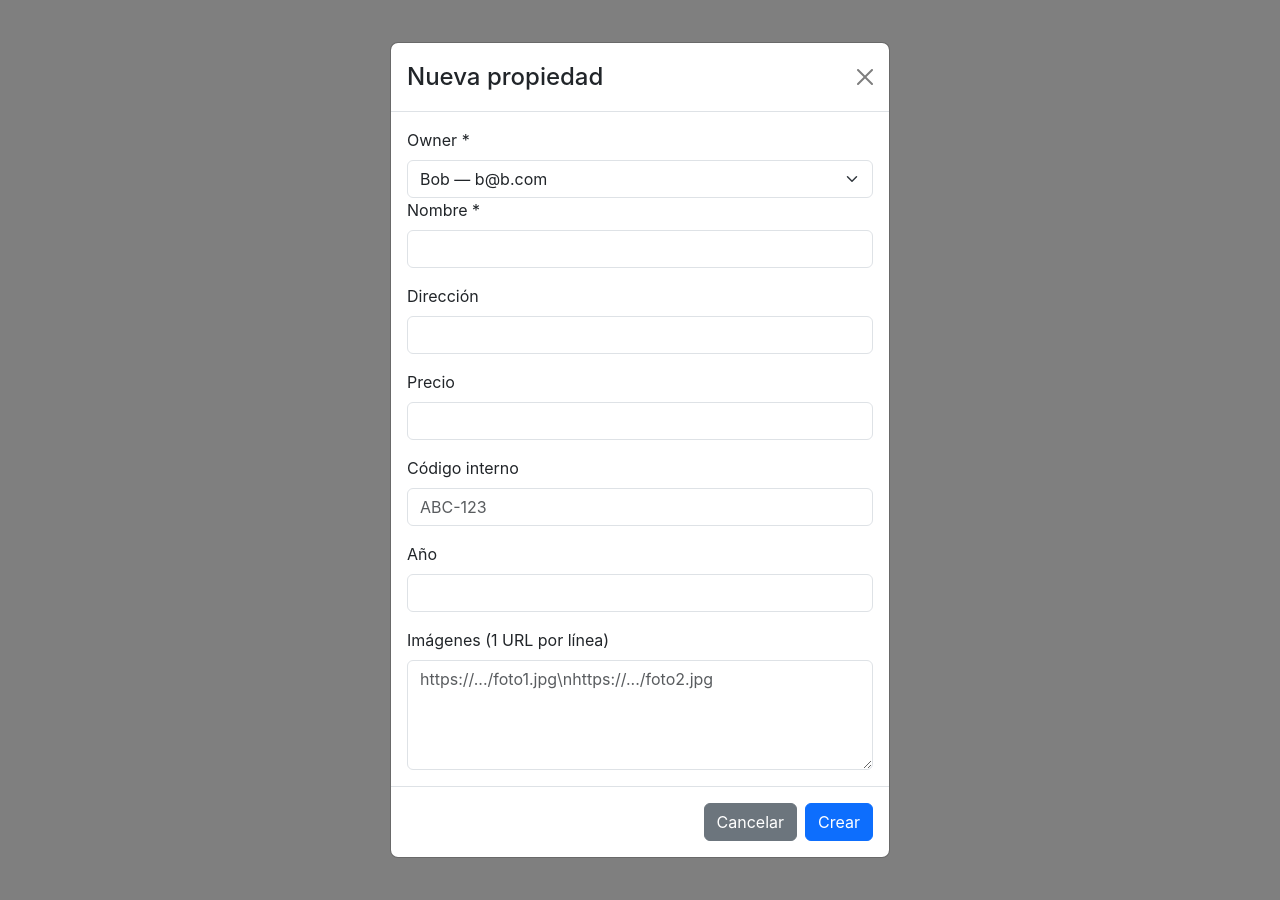
Test: PropertyFormModal › modo create: si create rechaza, muestra alerta
This screenshot has width=1280, height=900.
Type "Casa Roja" into the field labelled "Nombre *" at (640, 249), box top-left (407, 230), bottom-right (873, 268)
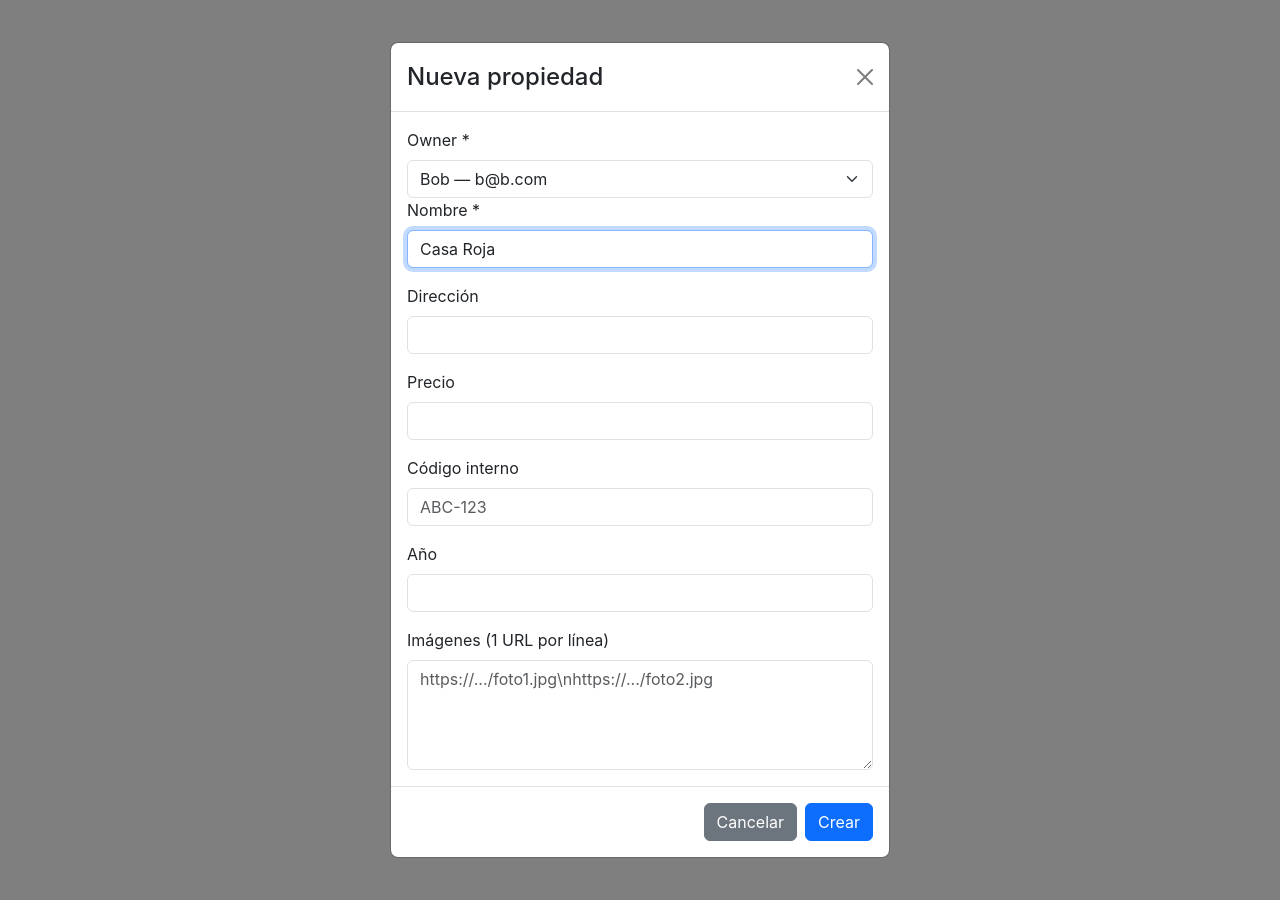
Click the button "Crear" at (839, 822), box top-left (805, 803), bottom-right (873, 841)
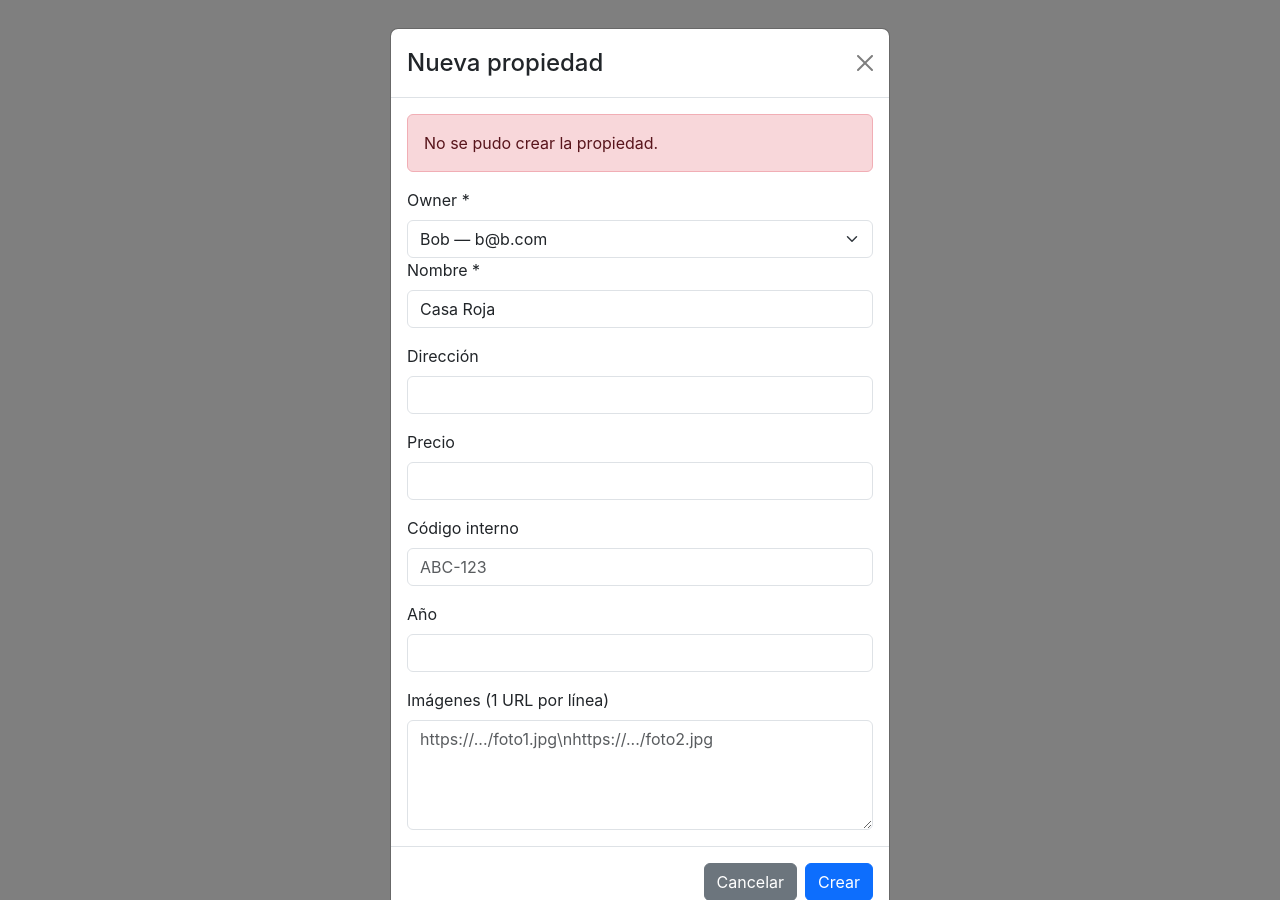
Now the text "No se pudo crear la propiedad." is shown, box top-left (407, 114), bottom-right (873, 172)
